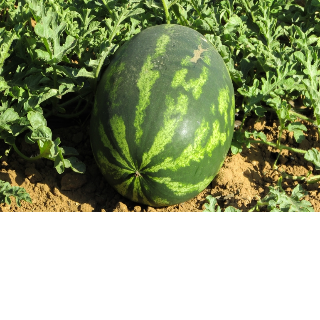dua_hau: (89, 24, 237, 204)
